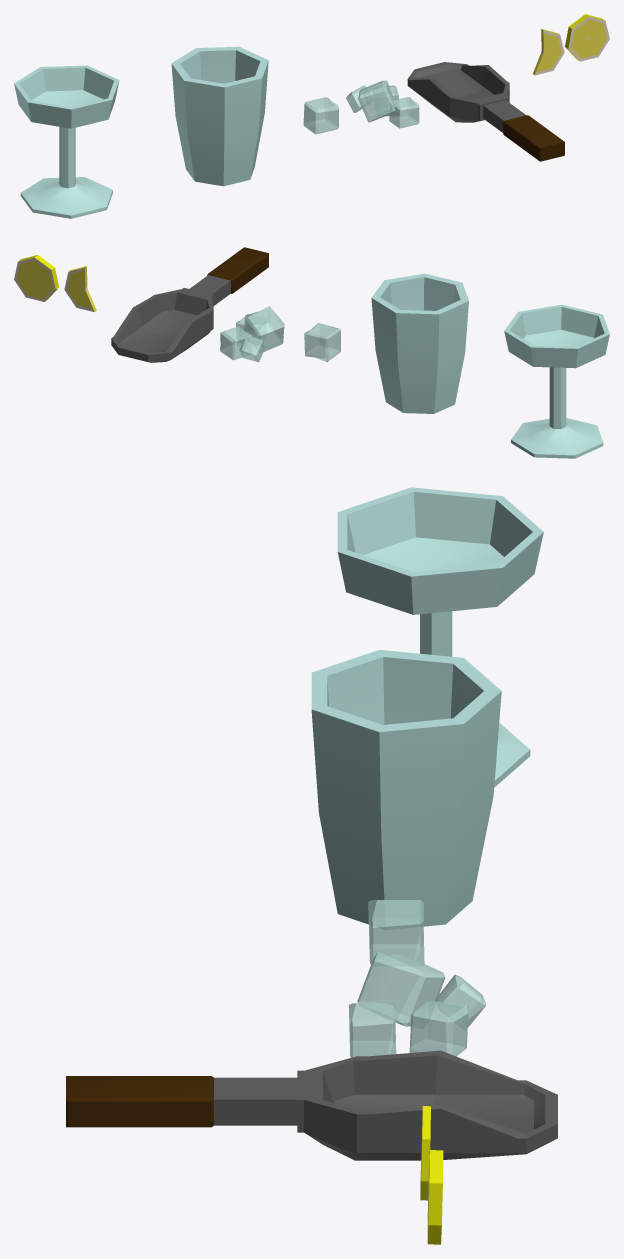
Rendered from palashieloslimonesvasos.fbx.
3 renders of one model, top to bottom at view 1: azimuth 30°, elevation 25°; view 2: azimuth 150°, elevation 25°; view 3: azimuth 270°, elevation 25°, orthographic. The views are drawn at different scales.
Visible parts, largest first — view 1: Vaso1, COPA, pala.001, hielo, LIMON ENTERO, hielo.005, LIMON MITAD; view 2: Vaso1, COPA, pala.001, hielo, LIMON ENTERO, hielo.005, LIMON MITAD; view 3: Vaso1, pala.001, COPA, hielo, hielo.005, LIMON ENTERO.
Part boxes in pixels (x1,y1,x2,y2): Vaso1: (171, 46, 268, 186); COPA: (14, 65, 119, 218); pala.001: (407, 62, 564, 161); hielo: (346, 80, 419, 128); LIMON ENTERO: (565, 14, 609, 61); hielo.005: (303, 97, 338, 134); LIMON MITAD: (533, 29, 564, 75); Vaso1: (371, 273, 468, 413); COPA: (504, 304, 609, 458); pala.001: (111, 247, 268, 362); hielo: (220, 306, 284, 362); LIMON ENTERO: (14, 255, 59, 301); hielo.005: (304, 323, 340, 362); LIMON MITAD: (64, 266, 96, 312); Vaso1: (311, 649, 501, 926); pala.001: (66, 1050, 557, 1160); COPA: (337, 487, 543, 787); hielo: (348, 951, 485, 1057); hielo.005: (368, 900, 424, 964); LIMON ENTERO: (427, 1150, 443, 1244).
Bounding box in the file's own units: 91.63 × 17 × 33.3.
